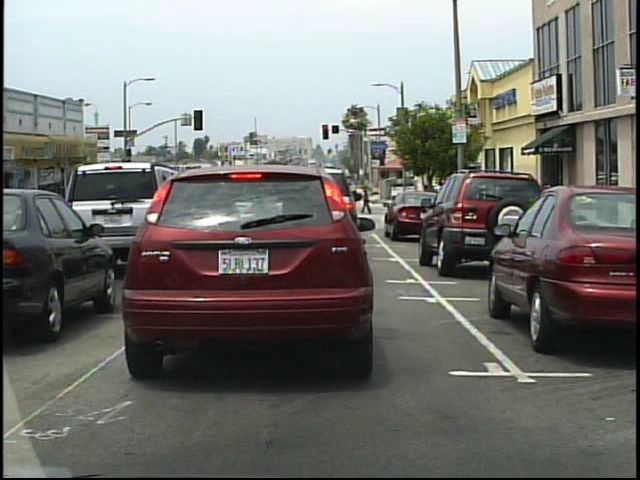person: (360, 185, 373, 218)
